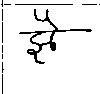ai_matra: (33, 8, 62, 30)
